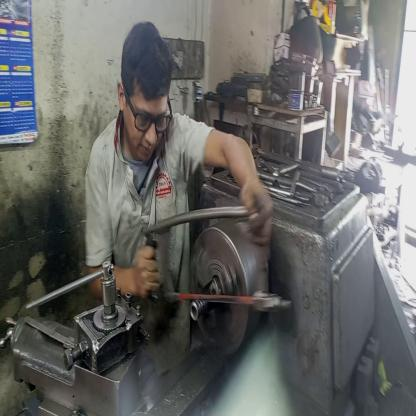lentes: (124, 85, 176, 140)
